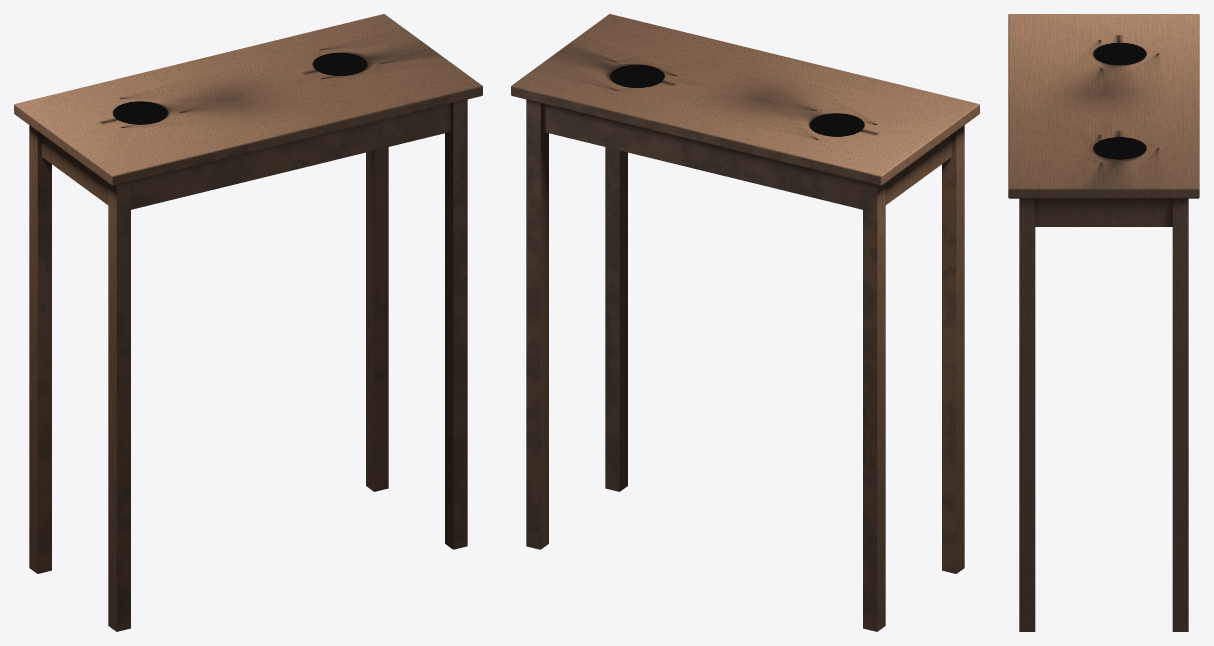
File: 809_met.glb
3 renders of one model, left to right at view 1: azimuth 30°, elevation 25°; view 2: azimuth 150°, elevation 25°; view 3: azimuth 270°, elevation 25°, orthographic. The views are drawn at different scales.
Parts seen in each view (by area): view 1: Table; view 2: Table; view 3: Table.
Boxes of the visible parts, bbox=[...] form: Table: bbox=[14, 14, 482, 631]; Table: bbox=[511, 14, 979, 631]; Table: bbox=[1008, 14, 1199, 631].
Size of what is drawn, in the model's own units: 2.6 by 3.1 by 1.2.
1 material, 1 textured.
